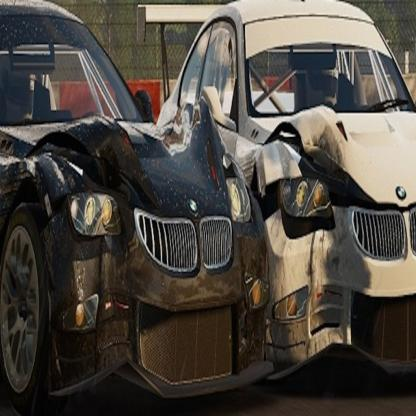Car: (1, 1, 263, 416), (156, 1, 416, 393)
